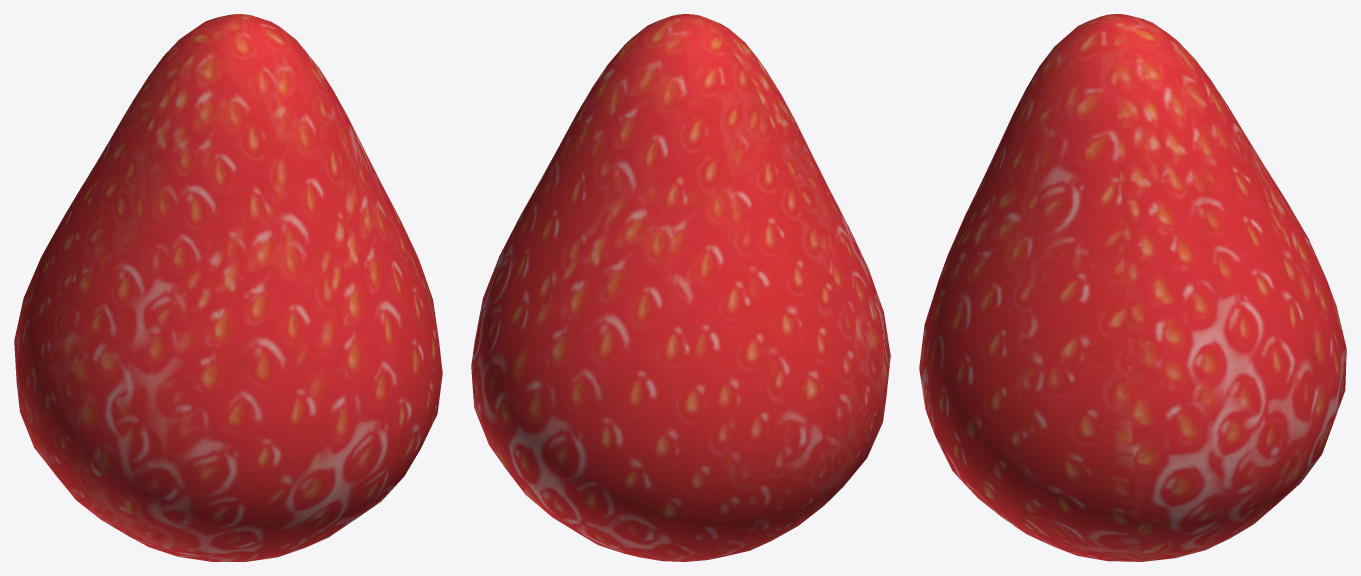
File: ichigo.fbx
3 renders of one model, left to right at view 1: azimuth 30°, elevation 25°; view 2: azimuth 150°, elevation 25°; view 3: azimuth 270°, elevation 25°, orthographic. The views are drawn at different scales.
Visible parts, largest first — view 1: ichigo2; view 2: ichigo2; view 3: ichigo2.
Boxes of the visible parts, x1,y1,x2,y2 form: ichigo2: (14, 14, 442, 561); ichigo2: (471, 14, 890, 561); ichigo2: (919, 14, 1346, 561).
Size of the model in its own units: 0.8525 by 1.15 by 0.8515.
1 material, 1 textured.
